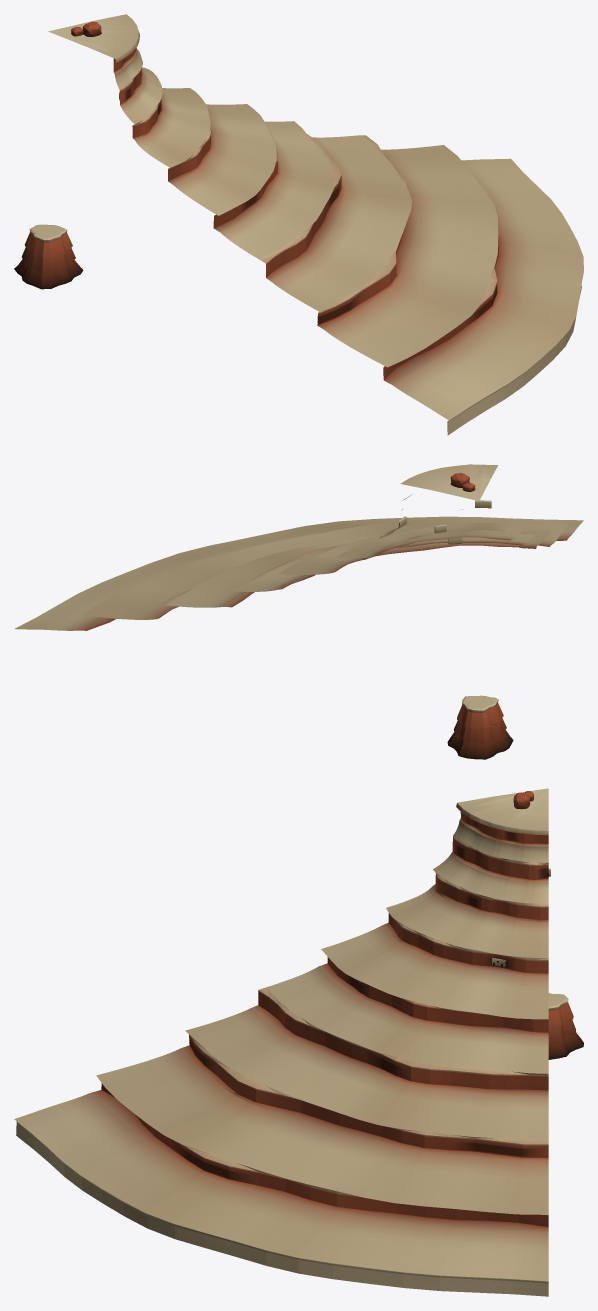
The model's file is canyon-s2-paKXrV7y.glb.
The picture shows the model from 3 angles, top to bottom: view 1: azimuth 30°, elevation 25°; view 2: azimuth 150°, elevation 25°; view 3: azimuth 270°, elevation 25°; orthographic projection. The views are drawn at different scales.
Visible parts, largest first — view 1: sc_landmark_4, sc_mesa_1; view 2: sc_landmark_4, sc_mesa_1; view 3: sc_landmark_4, sc_mesa_1.
Part boxes in pixels (bbox=[...]): sc_landmark_4: bbox=[48, 14, 583, 435]; sc_mesa_1: bbox=[14, 224, 83, 289]; sc_landmark_4: bbox=[15, 464, 583, 630]; sc_mesa_1: bbox=[447, 695, 513, 759]; sc_landmark_4: bbox=[14, 788, 550, 1296]; sc_mesa_1: bbox=[548, 993, 583, 1059].
Size of the model in its own units: 452 by 235 by 432.
